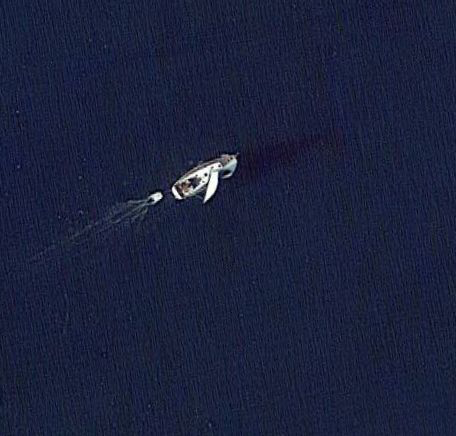boat: (173, 153, 238, 207), (145, 192, 164, 209)
